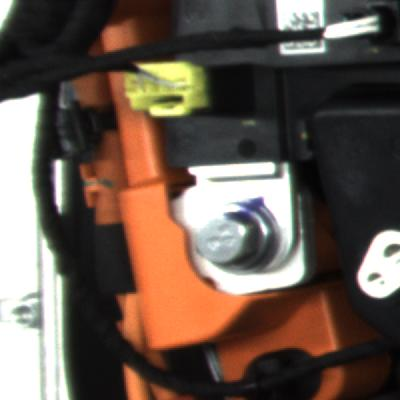nut_b: (182, 189, 290, 283)
